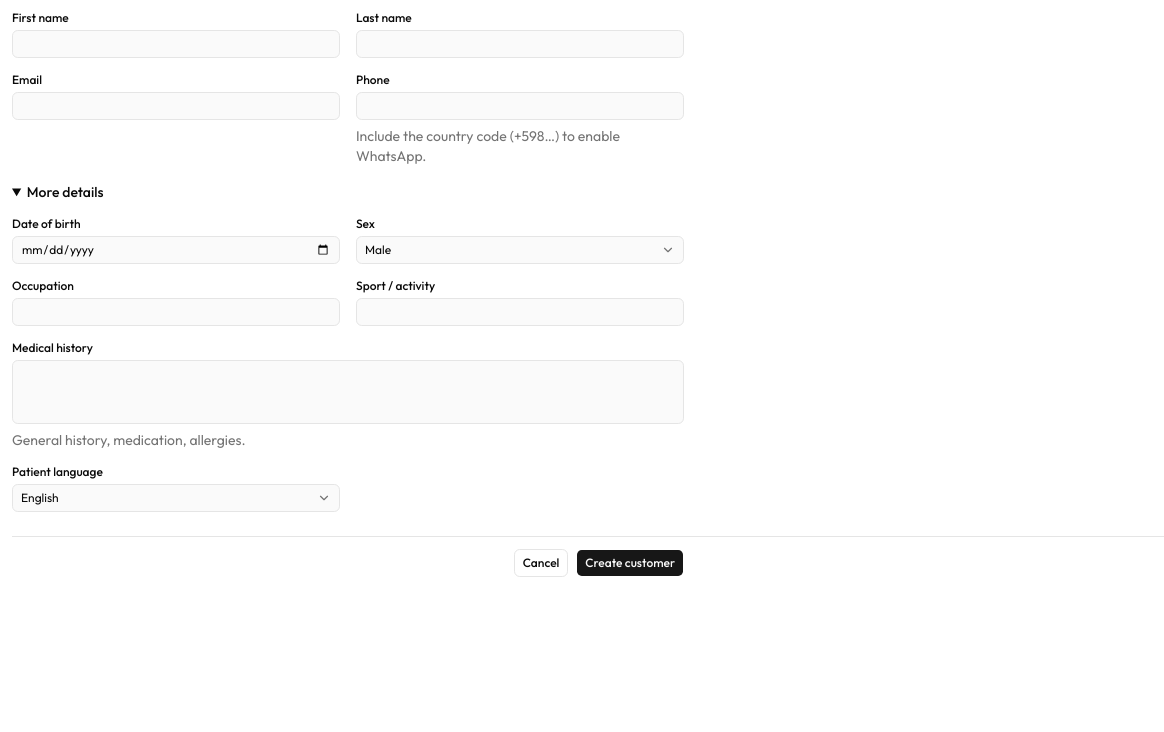
Test: CustomerForm › can go back to Not set
Click the dropdown named "Sex": (378, 250) [356,236,684,264]
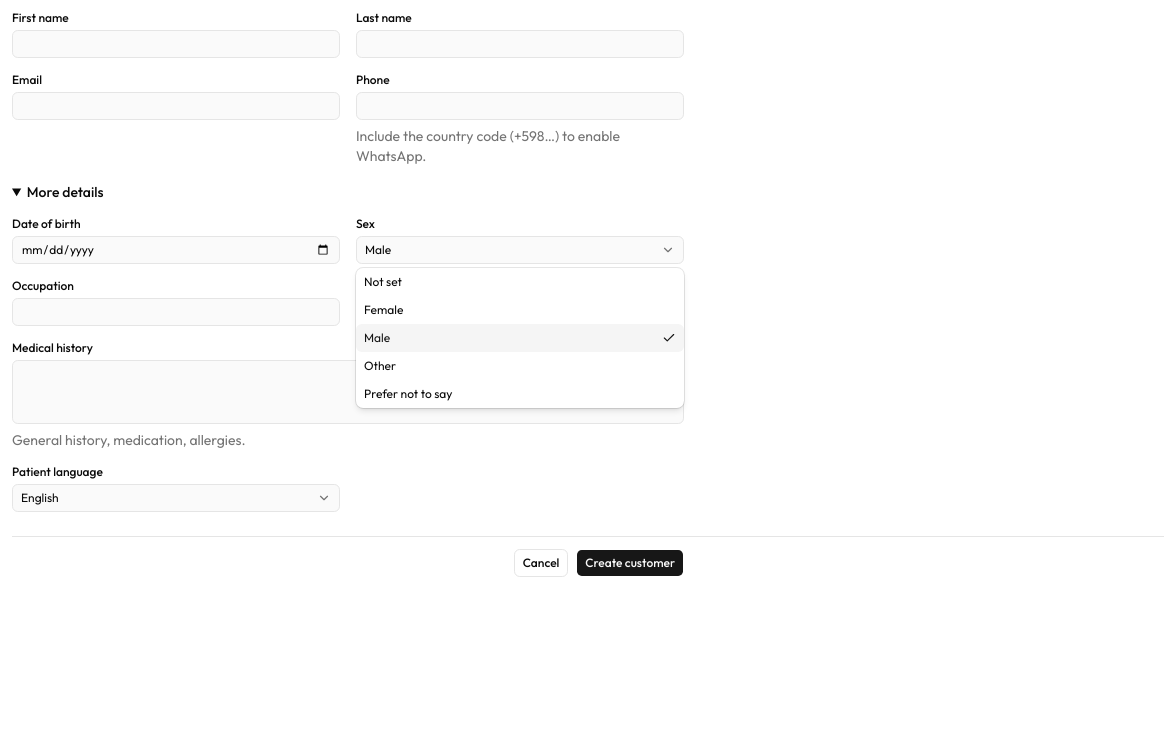
Click the option "Not set": (383, 282) [364,274,402,289]
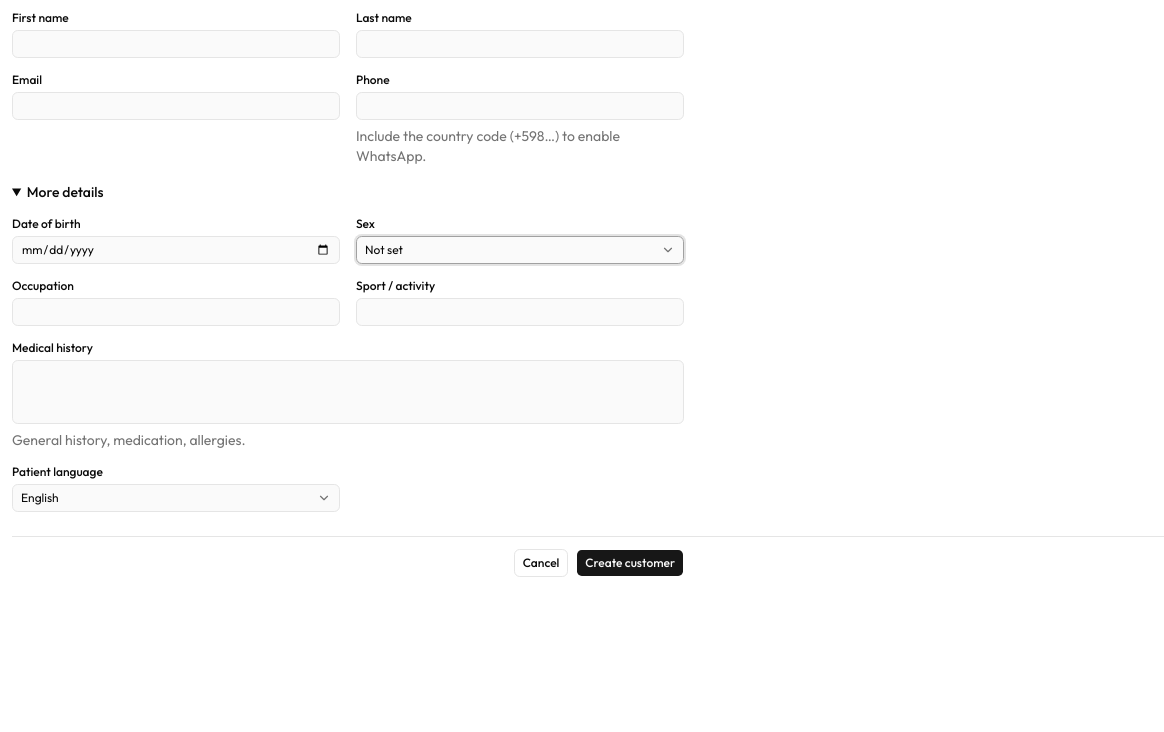
Expected: the dropdown named "Sex" reads "Not set", [356,236,684,264]
